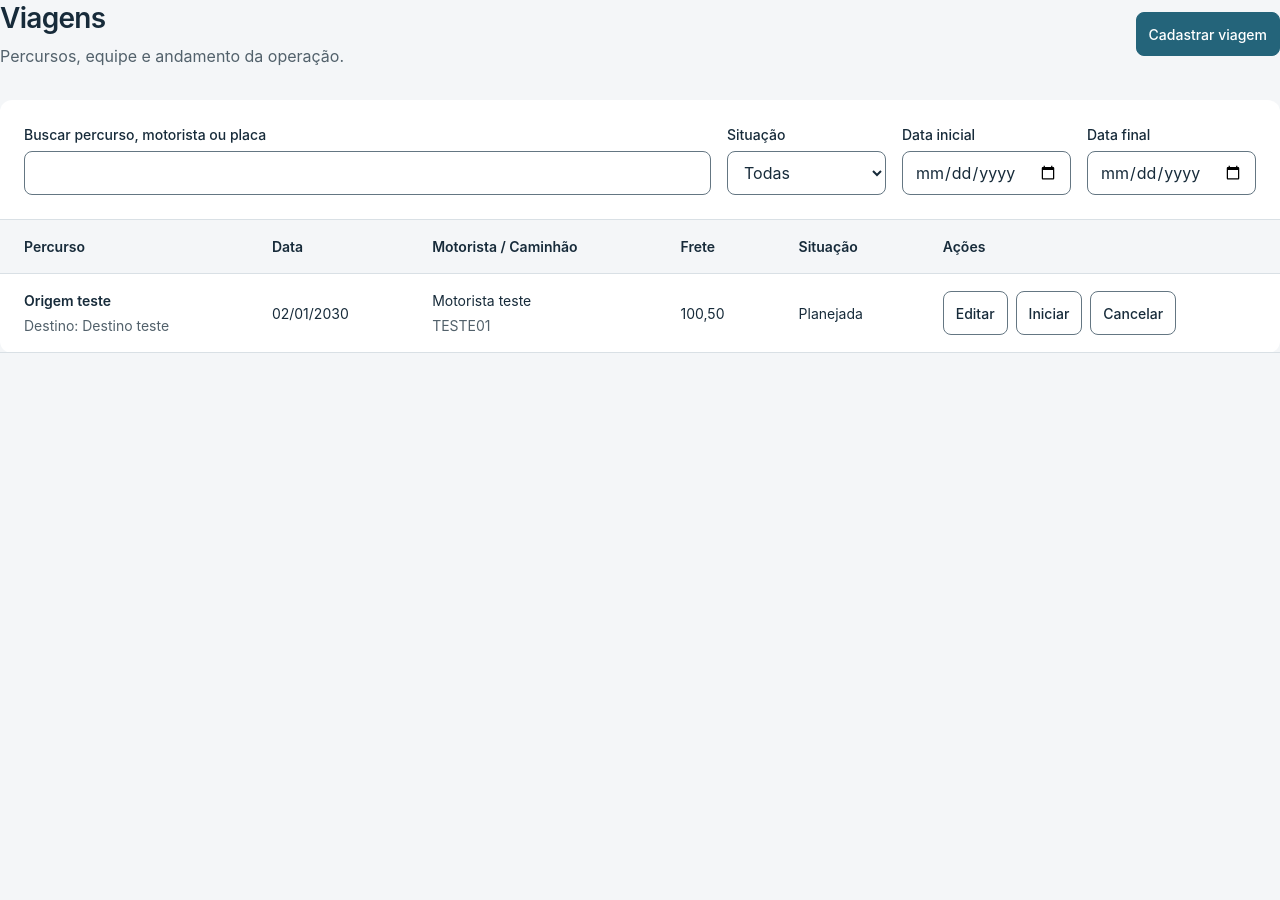
Test case: cancela pelo DELETE preservado e nao altera os dados pelo PUT
The width and height of the screenshot is (1280, 900).
Step 1. Click the button with aria-label "Cancelar viagem Origem teste" → point(1133, 313), box top-left (1090, 291), bottom-right (1176, 335)
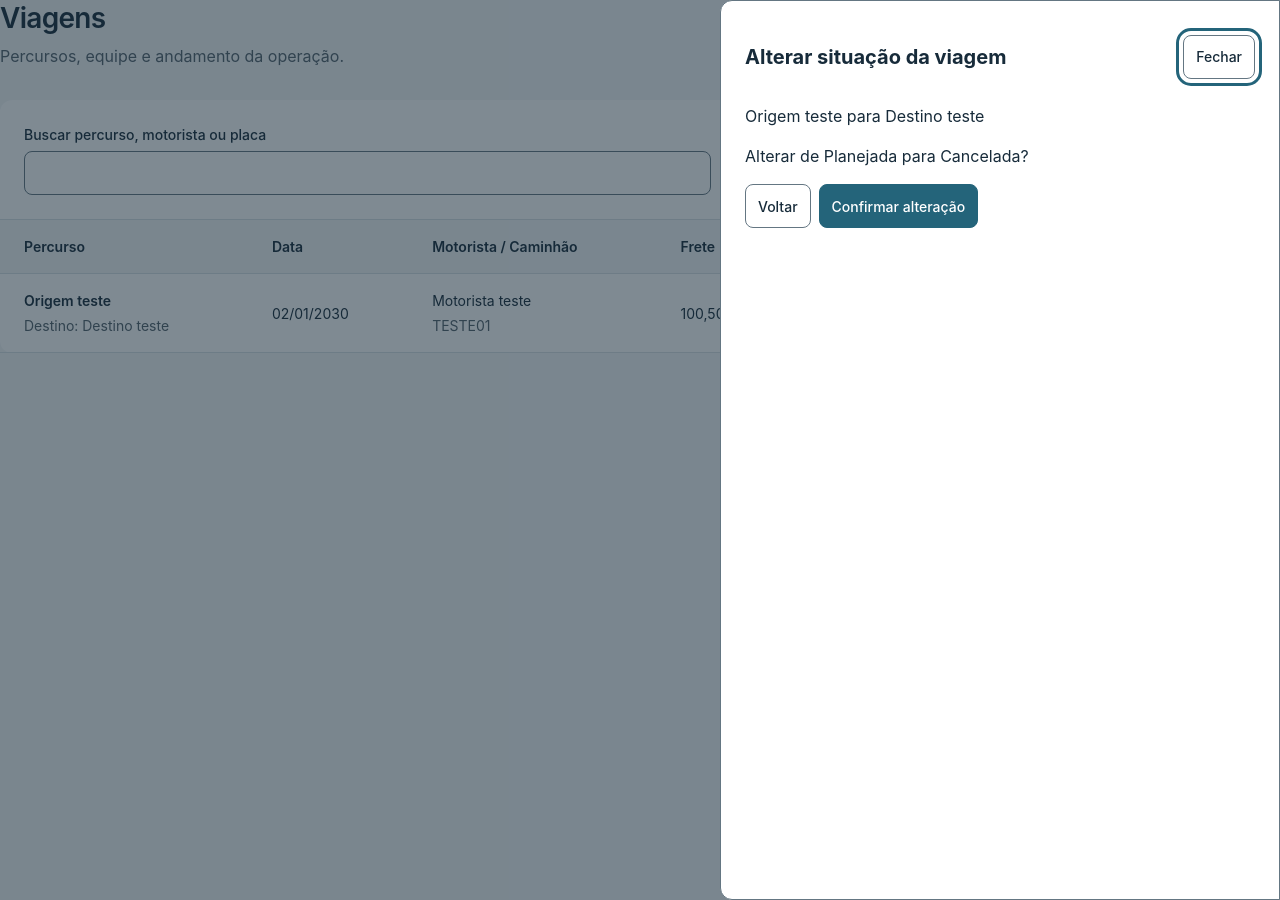
Step 2. Click the button "Confirmar alteração" → point(898, 206), box top-left (819, 184), bottom-right (978, 228)
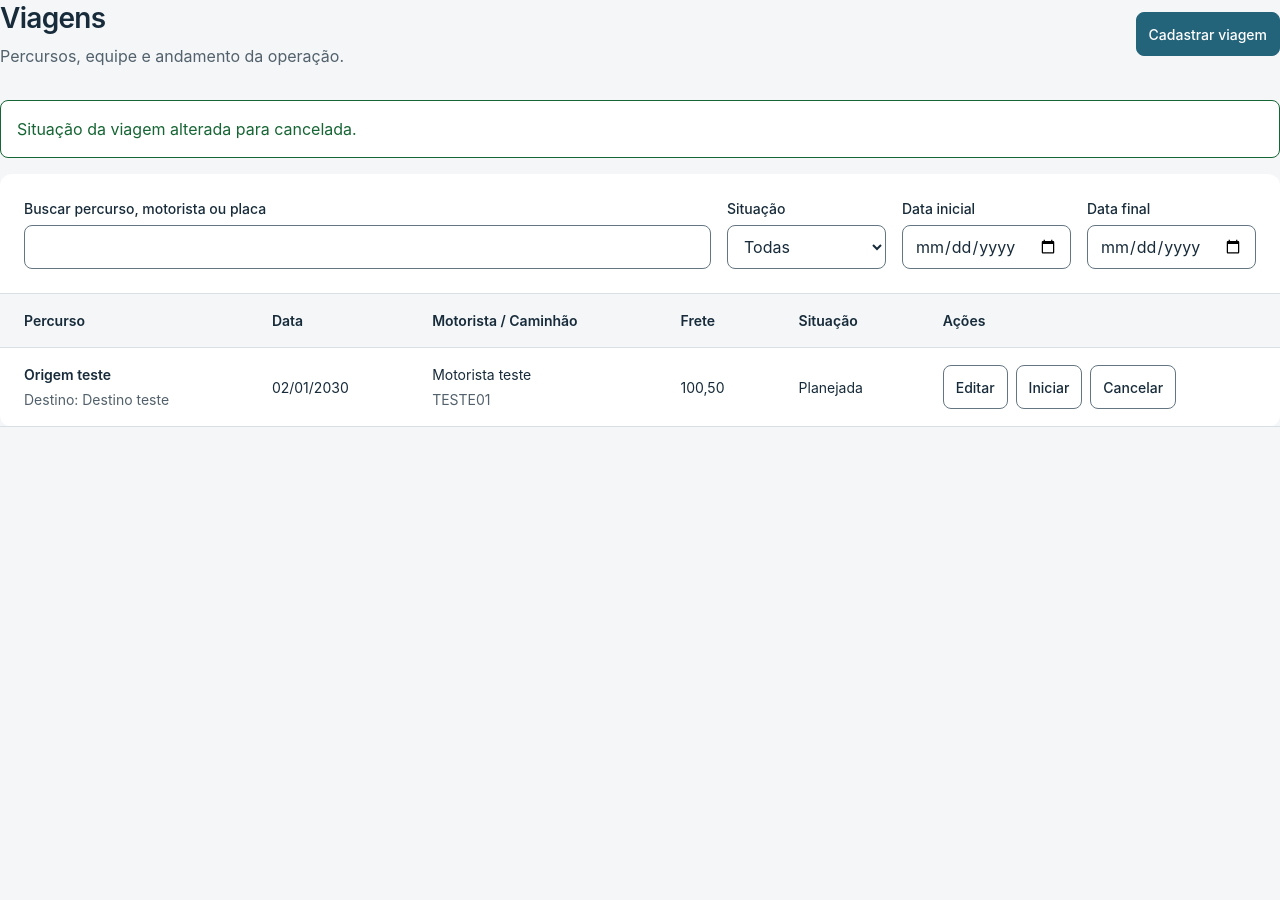
Result: the text "Situação da viagem alterada para cancelada." is shown at top-left (0, 100), bottom-right (1279, 158)
